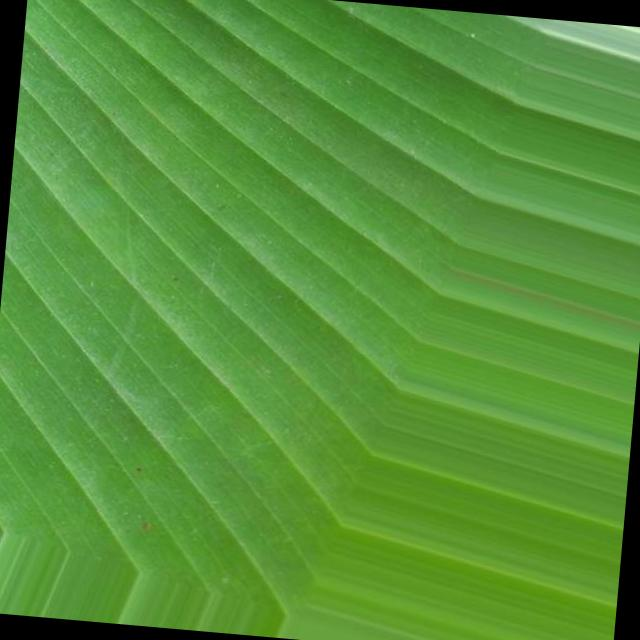Banana_Healthy: (25, 30, 382, 462)
